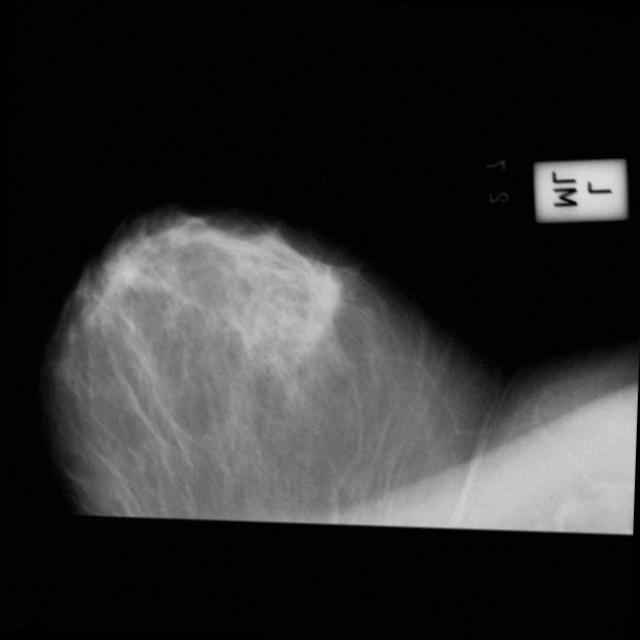ASYM: (306, 272, 342, 310)
